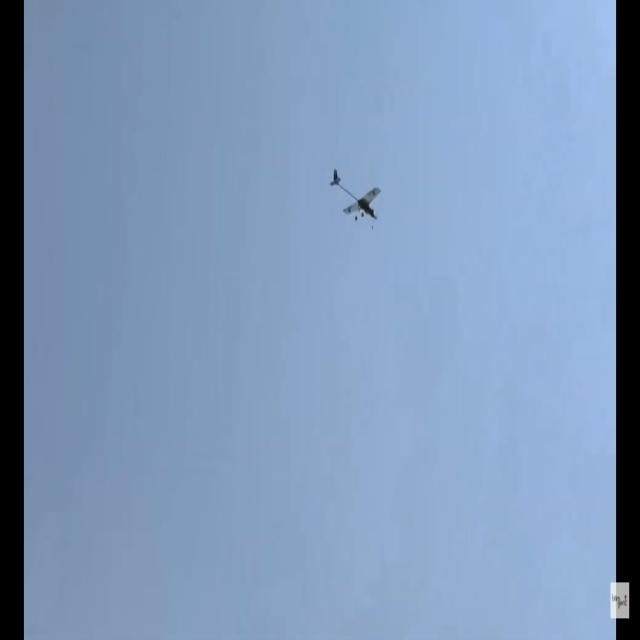iha: (330, 192, 382, 195)
